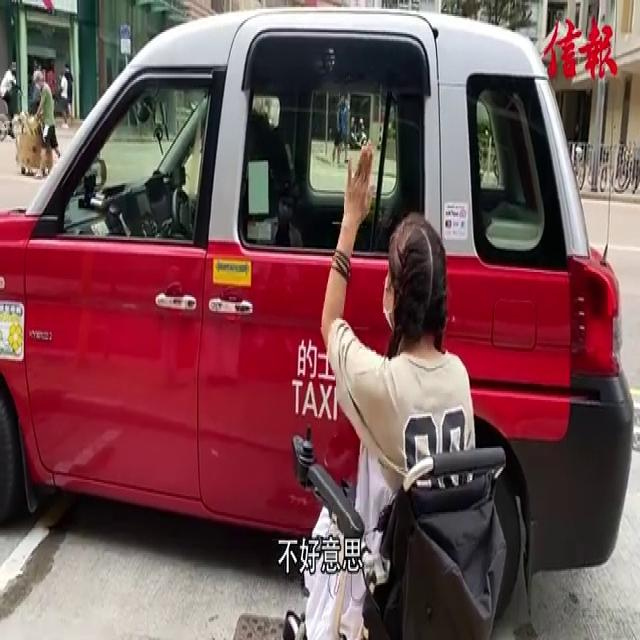wheelchairs: (271, 409, 550, 640)
